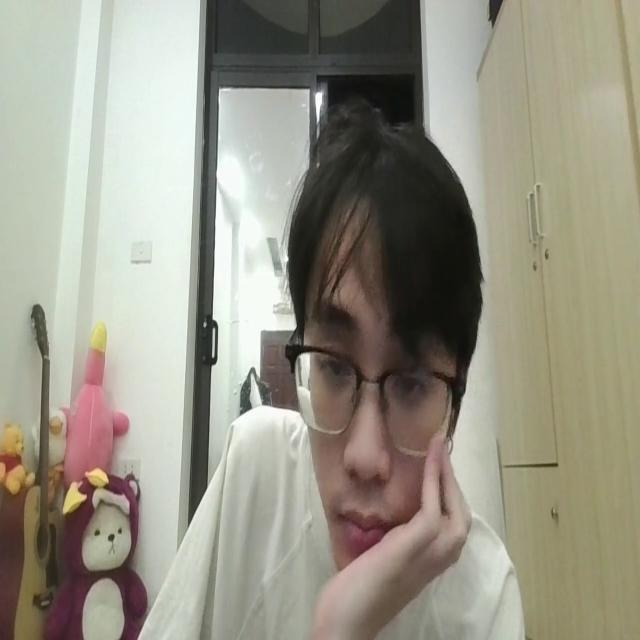student: (126, 99, 525, 640)
